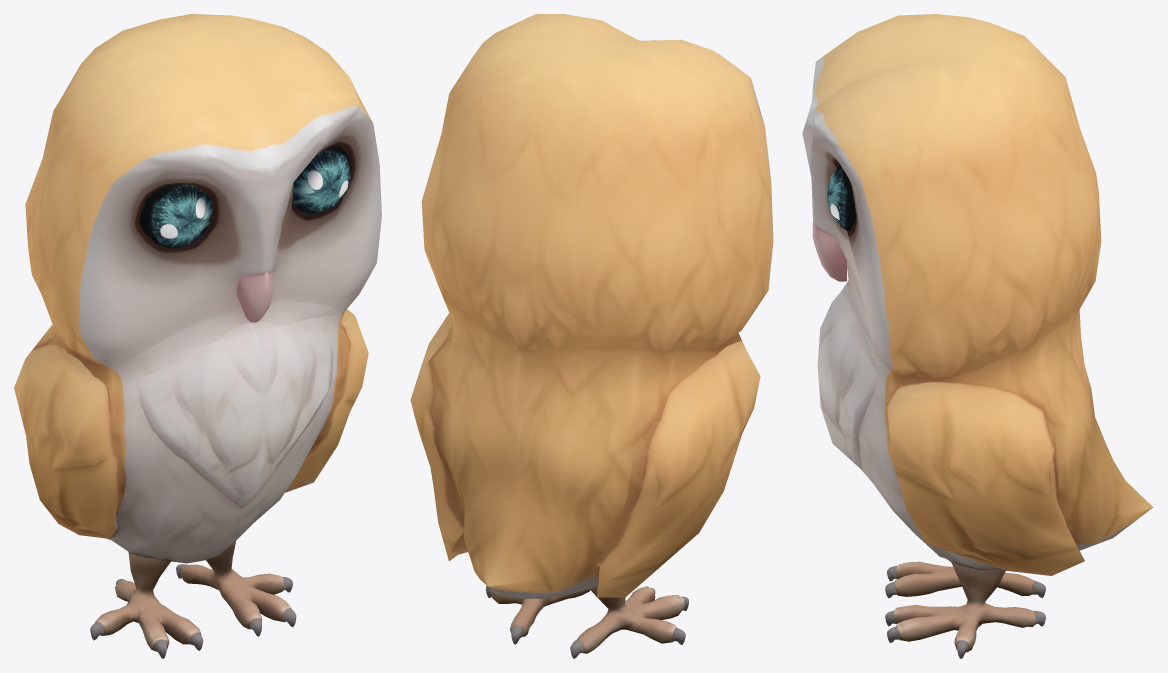
File: eggbert-owl.glb
The picture shows the model from 3 angles, left to right: view 1: azimuth 30°, elevation 25°; view 2: azimuth 150°, elevation 25°; view 3: azimuth 270°, elevation 25°; orthographic projection. The views are drawn at different scales.
Parts seen in each view (by area): view 1: Bird_low, Eyes_low, Beak_low, Talons_low; view 2: Bird_low, Talons_low; view 3: Bird_low, Eyes_low, Beak_low, Talons_low.
Boxes of the visible parts, bbox=[...] form: Bird_low: bbox=[14, 14, 381, 651]; Eyes_low: bbox=[139, 146, 350, 248]; Beak_low: bbox=[236, 270, 272, 322]; Talons_low: bbox=[90, 564, 296, 658]; Bird_low: bbox=[410, 14, 773, 653]; Talons_low: bbox=[485, 586, 688, 658]; Bird_low: bbox=[802, 14, 1153, 652]; Eyes_low: bbox=[827, 164, 856, 230]; Beak_low: bbox=[812, 223, 846, 281]; Talons_low: bbox=[885, 566, 1045, 658].
Bounding box in the file's own units: 1.95 × 3.49 × 1.96.
Materials: 2 (2 with a texture image).
